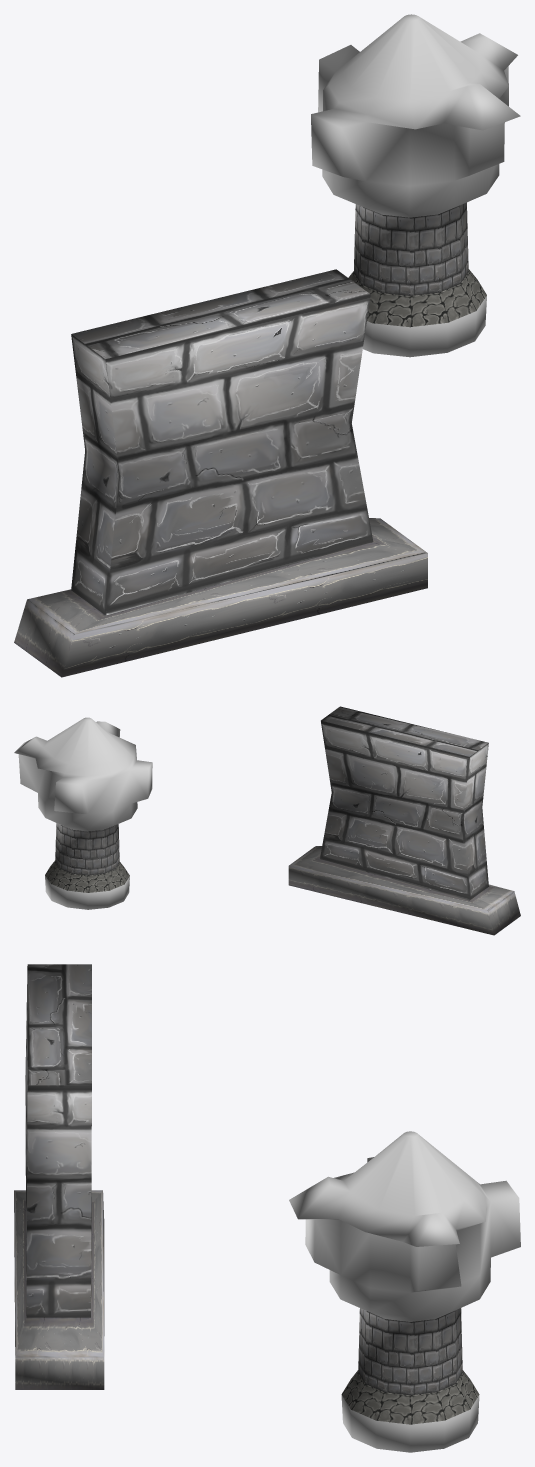
File: catoon_test_3.fbx
3 views of the same model, one above another, from view 1: azimuth 30°, elevation 25°; view 2: azimuth 150°, elevation 25°; view 3: azimuth 270°, elevation 25° (orthographic). The views are drawn at different scales.
Parts seen in each view (by area): view 1: Cube, Cylinder; view 2: Cube, Cylinder; view 3: Cylinder, Cube.
Part boxes in pixels (box(x1,y1,x2,y2)): Cube: box(14, 269, 427, 677); Cylinder: box(311, 14, 520, 357); Cube: box(288, 706, 520, 935); Cylinder: box(14, 717, 152, 909); Cylinder: box(289, 1131, 520, 1452); Cube: box(14, 964, 104, 1389).
Bounding box in the file's own units: 961 × 504 × 672.
